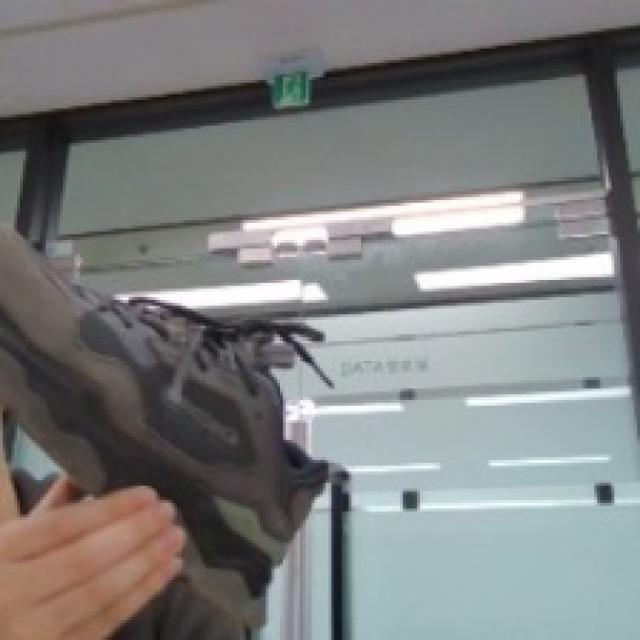shoe: (1, 136, 329, 640)
